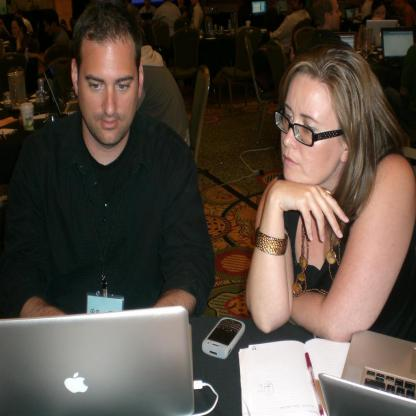board: (7, 306, 202, 409), (319, 329, 416, 415), (43, 61, 78, 115), (380, 26, 416, 60), (365, 20, 397, 49)
